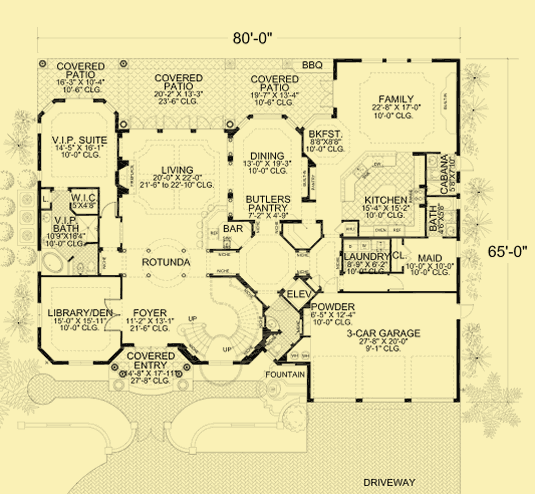kitchen has a counter with cooking range and twin sink: (335, 148, 424, 236)
laundry room has a washer and dryer: (338, 235, 392, 274)
open area has stairs: (172, 270, 266, 368)
small bathroom has a large sink with small sink: (262, 295, 308, 362), (423, 195, 462, 240)
there is a bathroom with bathtub and shower with small and large sink: (38, 188, 104, 279)
